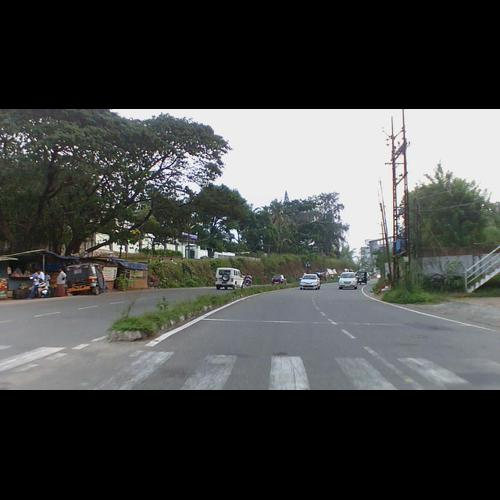car: (214, 270, 248, 293), (336, 273, 360, 290), (297, 275, 322, 291)
